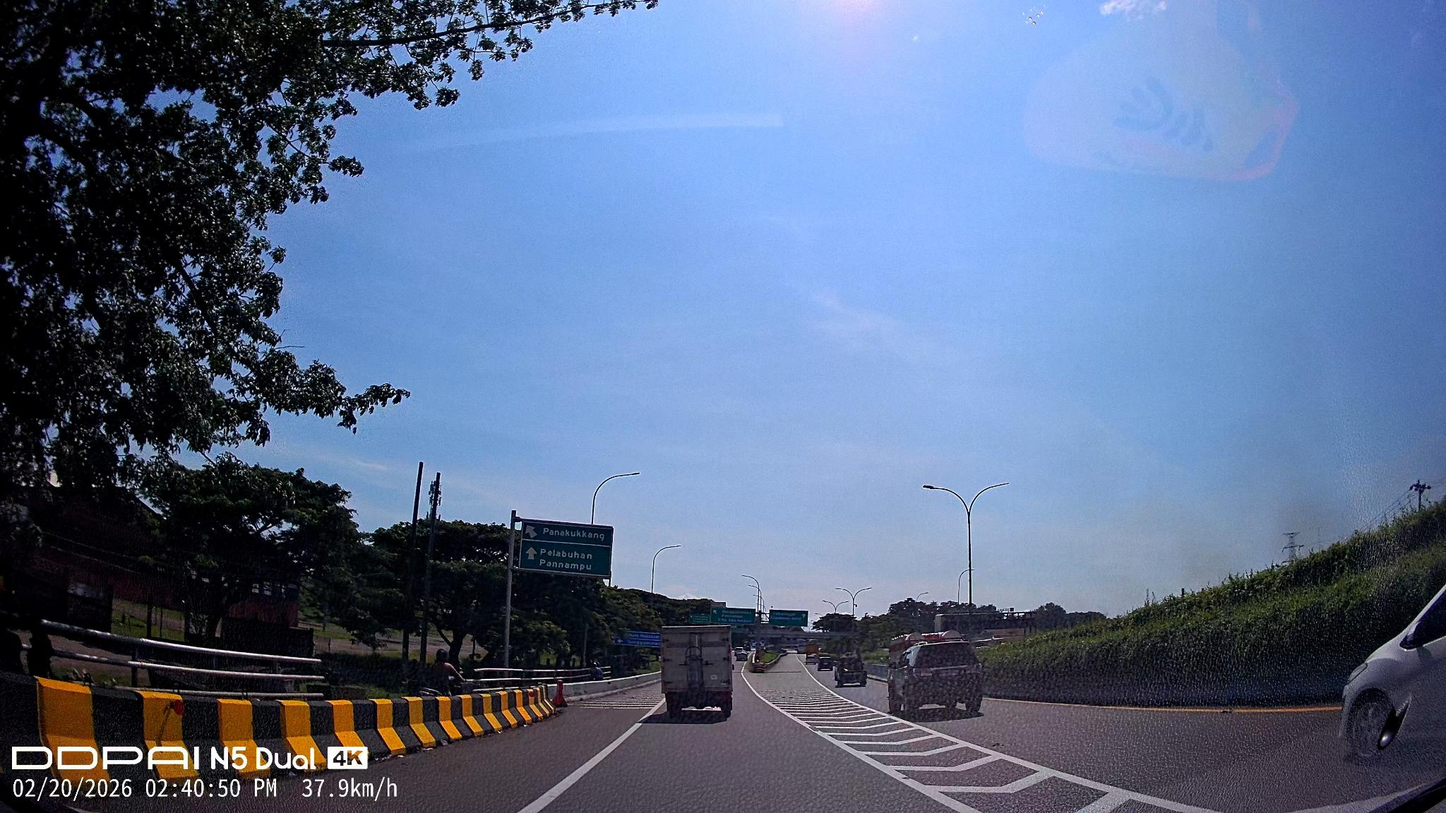rambu_teks: (519, 521, 611, 577)
